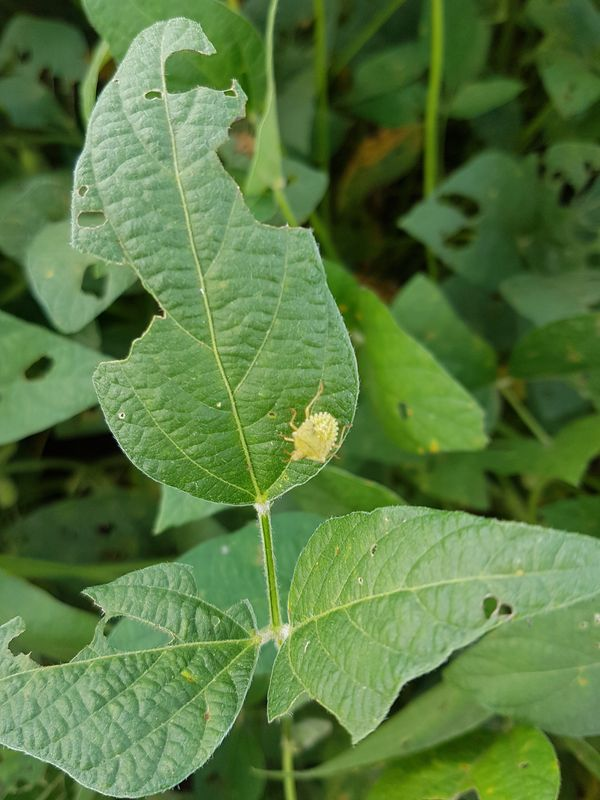Euschistus_heros_ninfa: (261, 375, 361, 478)
